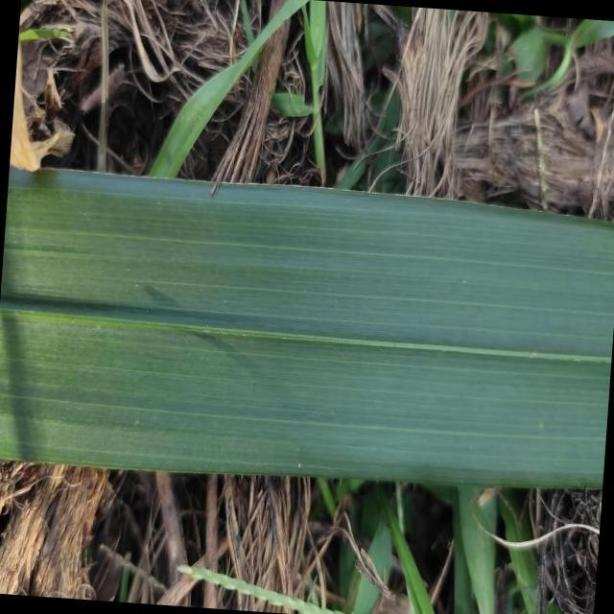Healthy: (5, 162, 614, 492)
